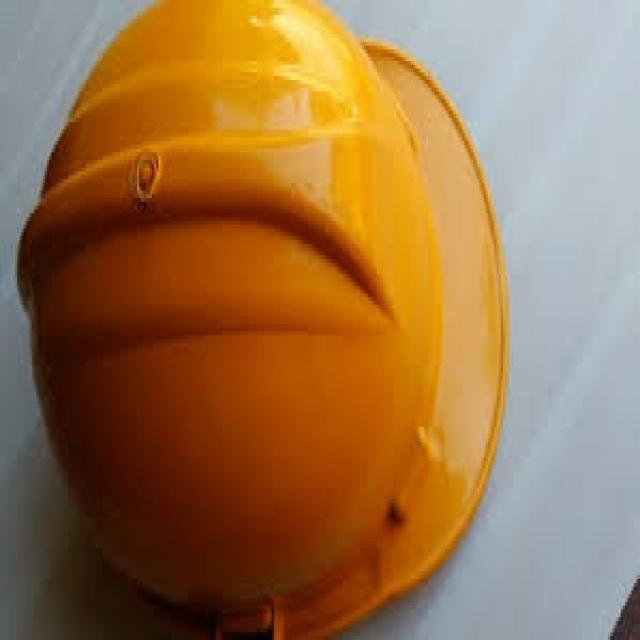Safety-Helmet: (9, 8, 533, 632)
